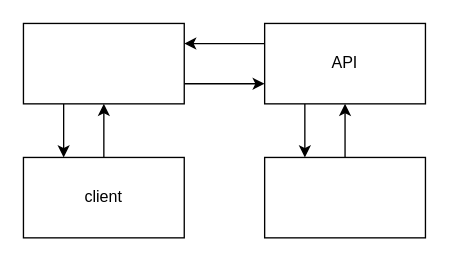
Image size: 449x261. Some labels were removed from this diagram. Here are the shapes that lost their labels. From the top down, the centre of each, then its label:
At point 103,63: "Blazor".
At point 344,197: "database".
